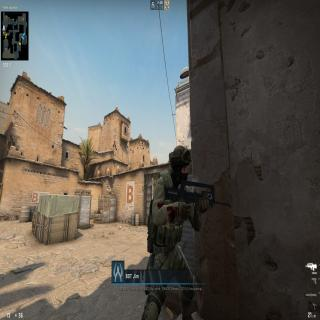CT-Head: (169, 144, 191, 186)
